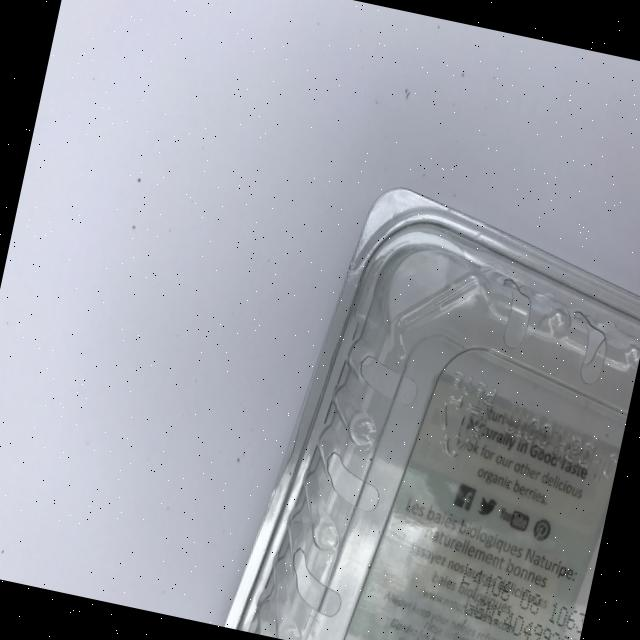plastic: (223, 169, 640, 640)
